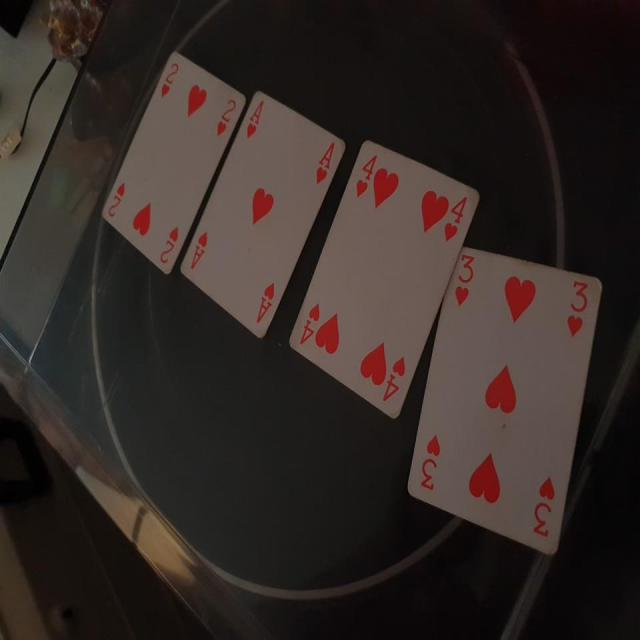2 Hearts: (102, 48, 244, 282)
3 Hearts: (404, 248, 604, 559)
4 Hearts: (293, 130, 483, 428)
A Hearts: (180, 84, 349, 348)
